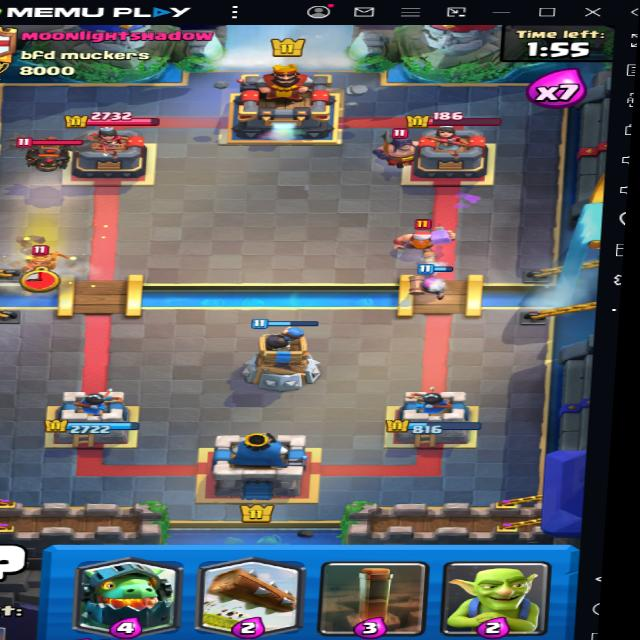Executioner: (359, 128, 432, 170)
Lavahound: (13, 132, 81, 174)
Littleprince: (13, 241, 76, 287)
Lumberjack: (383, 218, 460, 252)
